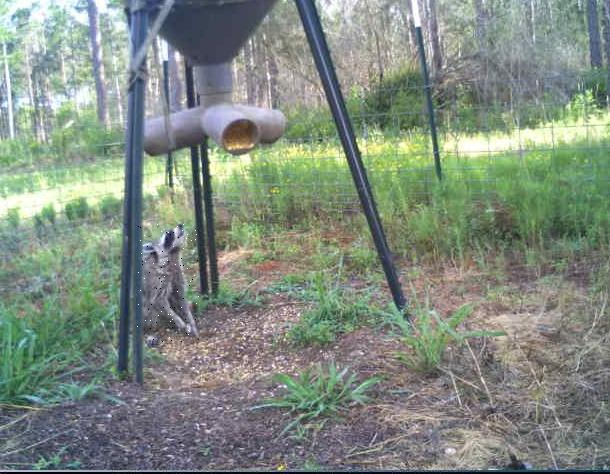Raccoon: (137, 221, 199, 343)
